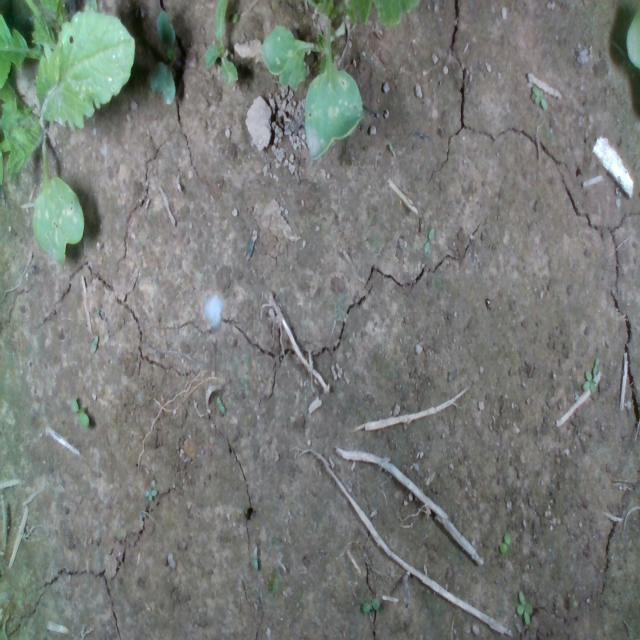weed: (69, 398, 89, 428), (516, 589, 532, 625), (423, 226, 435, 254), (361, 596, 379, 614), (499, 530, 511, 554), (142, 483, 158, 501), (216, 396, 226, 416)
